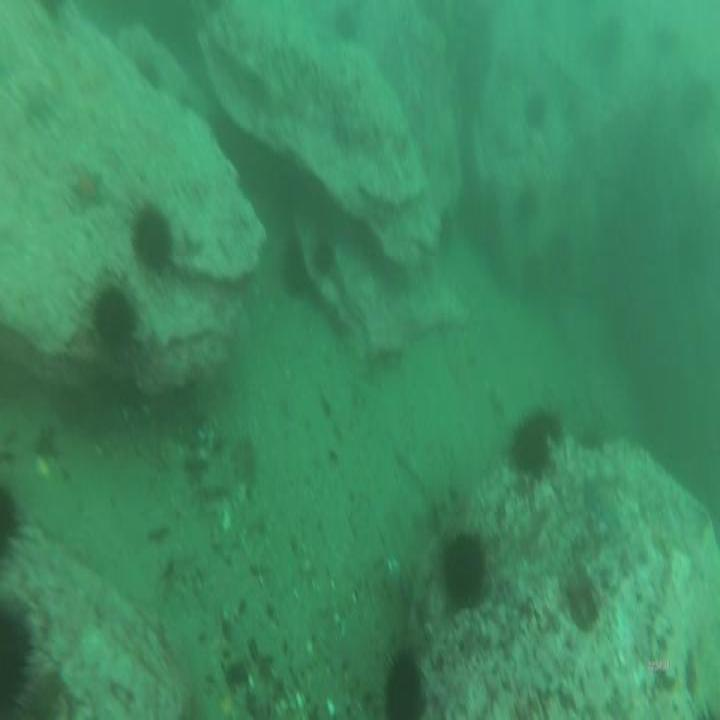echinus: (387, 650, 423, 720), (445, 538, 481, 604), (92, 292, 130, 348), (512, 418, 547, 473), (133, 208, 168, 263), (282, 242, 306, 290), (527, 89, 547, 126), (519, 187, 536, 224), (315, 240, 335, 267)
starfish: (74, 164, 105, 214)
